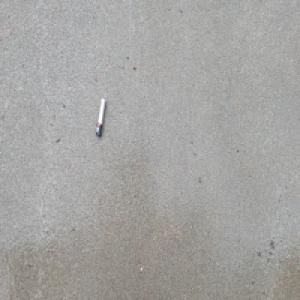Battery: (94, 97, 105, 138)
